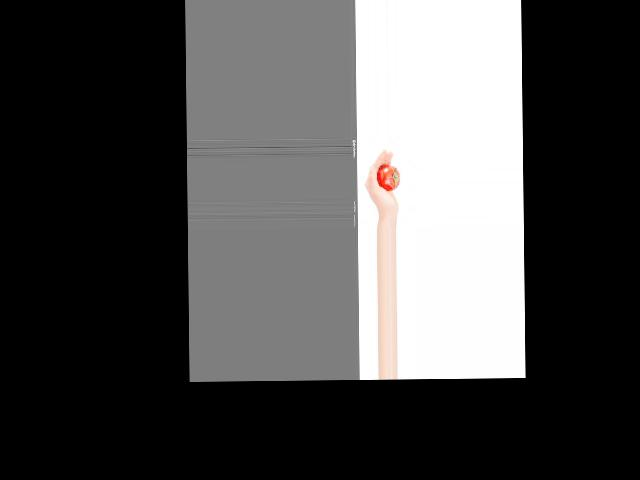tomato: (376, 166, 399, 192)
